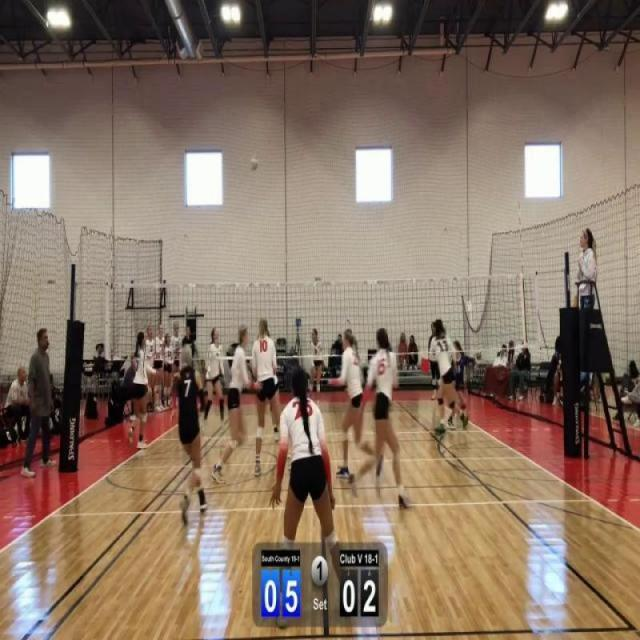volleyball: (248, 154, 260, 173)
